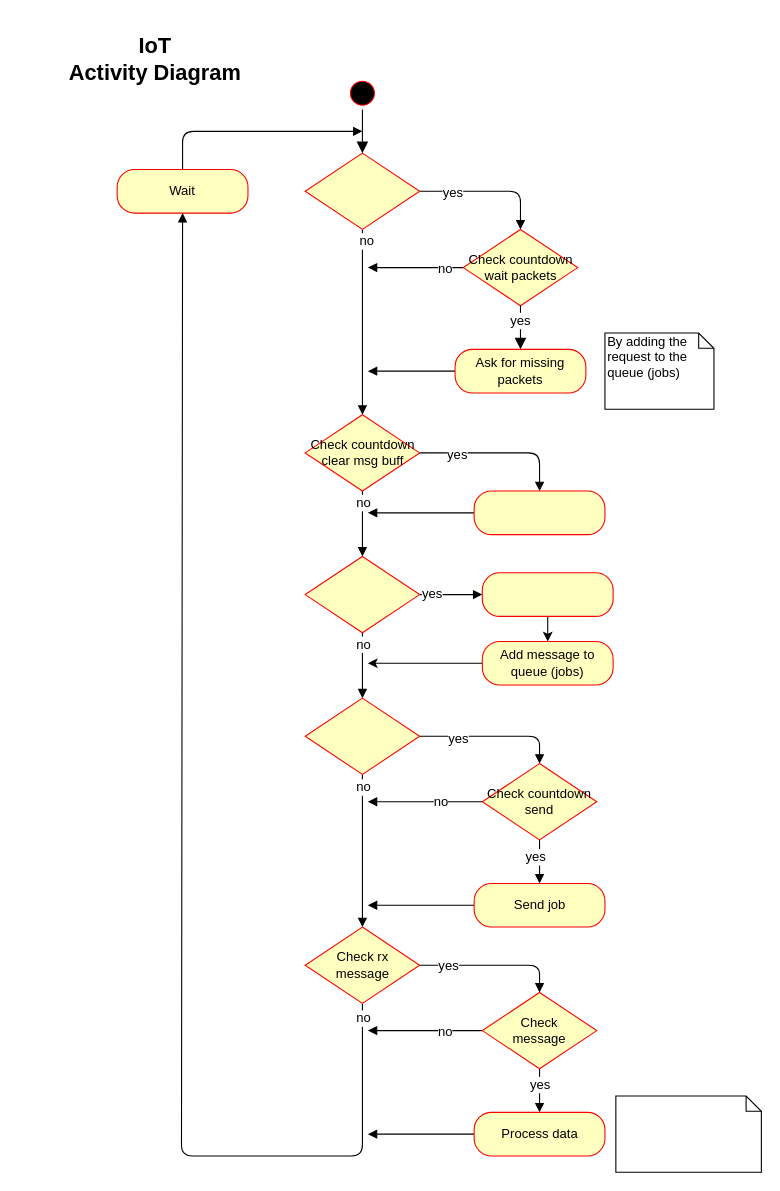
Image size: 780x1191. Some labels were removed from this diagram. Here are the shapes that lost their labels. From the top down, the centre of each, then its label:
[362,190]: Check missing packets
[539,512]: Clear msg buff
[362,594]: Check UART done
[547,594]: Encrypt message
[362,735]: Check pending jobs
[688,1133]: Msg type : Fire values Missing packet request Termination request
